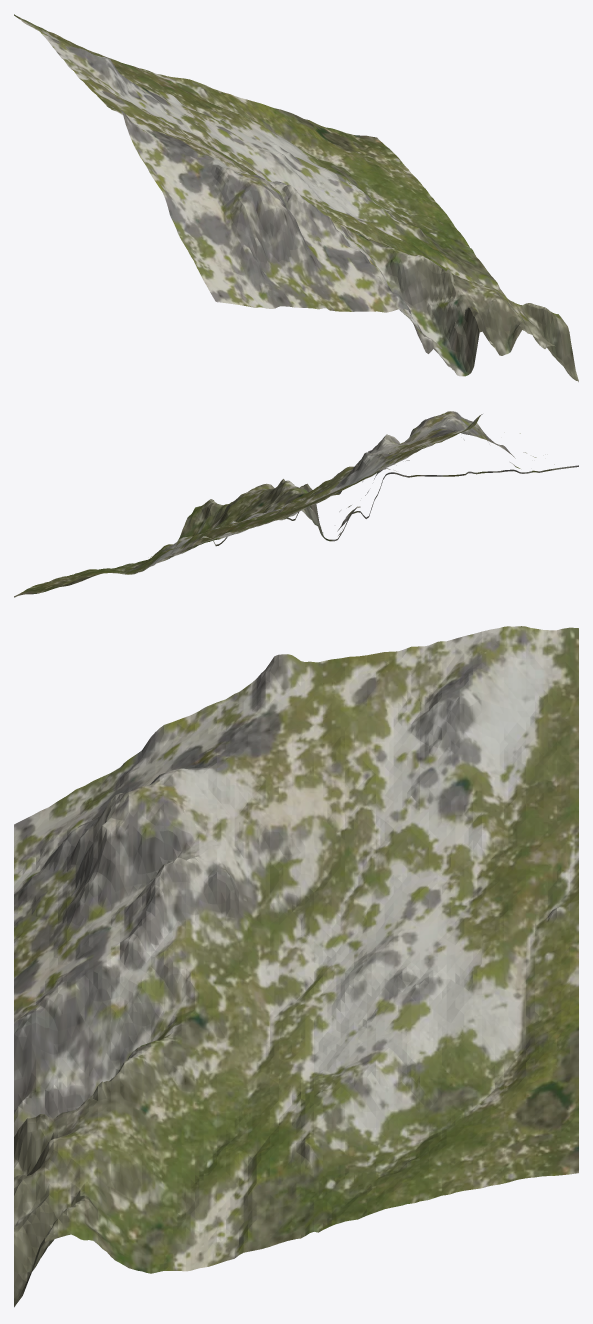
3 views of the same model, one above another, from view 1: azimuth 30°, elevation 25°; view 2: azimuth 150°, elevation 25°; view 3: azimuth 270°, elevation 25° (orthographic). The views are drawn at different scales.
Size of the model in its own units: 250 by 205 by 241.
Materials: 1 (1 with a texture image).
